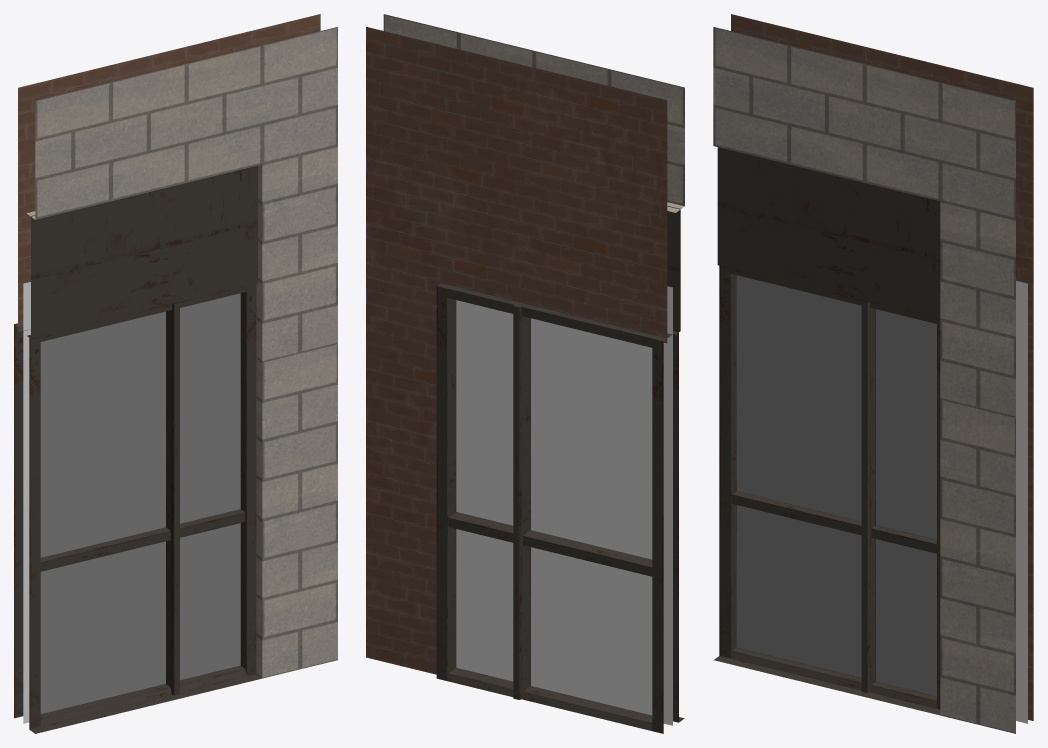
File: WhiteBrick_Window_R.gltf
3 views of the same model, side by side, from view 1: azimuth 30°, elevation 25°; view 2: azimuth 150°, elevation 25°; view 3: azimuth 330°, elevation 25° (orthographic).
Parts seen in each view (by area): view 1: WhiteBrick_Window_R; view 2: WhiteBrick_Window_R; view 3: WhiteBrick_Window_R.
Boxes of the visible parts, x1=… form: WhiteBrick_Window_R: x1=14, y1=14, x2=337, y2=733; WhiteBrick_Window_R: x1=366, y1=14, x2=684, y2=733; WhiteBrick_Window_R: x1=713, y1=14, x2=1033, y2=733.
Bounding box in the file's own units: 2 × 4 × 0.2599.
Materials: 5 (3 with a texture image).
